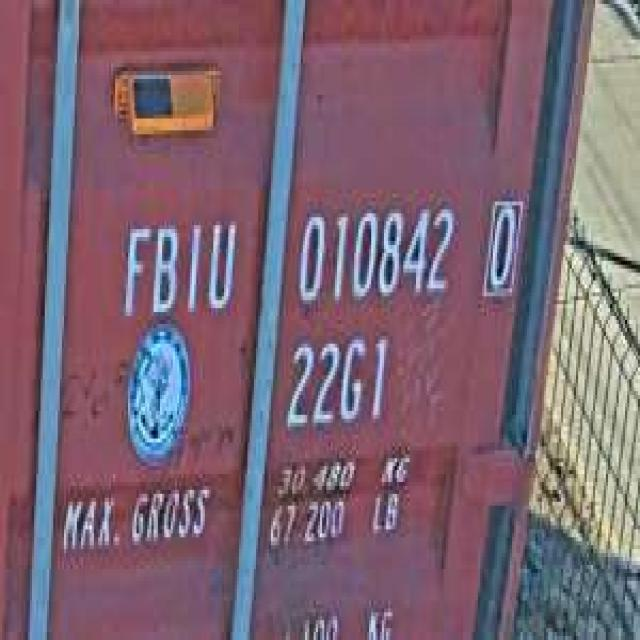dv: (480, 190, 525, 304)
owner: (113, 205, 239, 324)
serial: (290, 194, 459, 308)
size: (280, 328, 390, 438)
